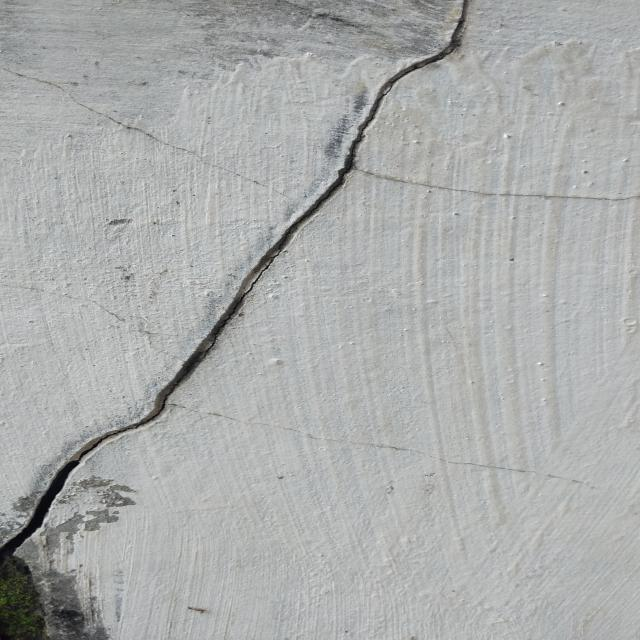Crack: (6, 1, 475, 552)
